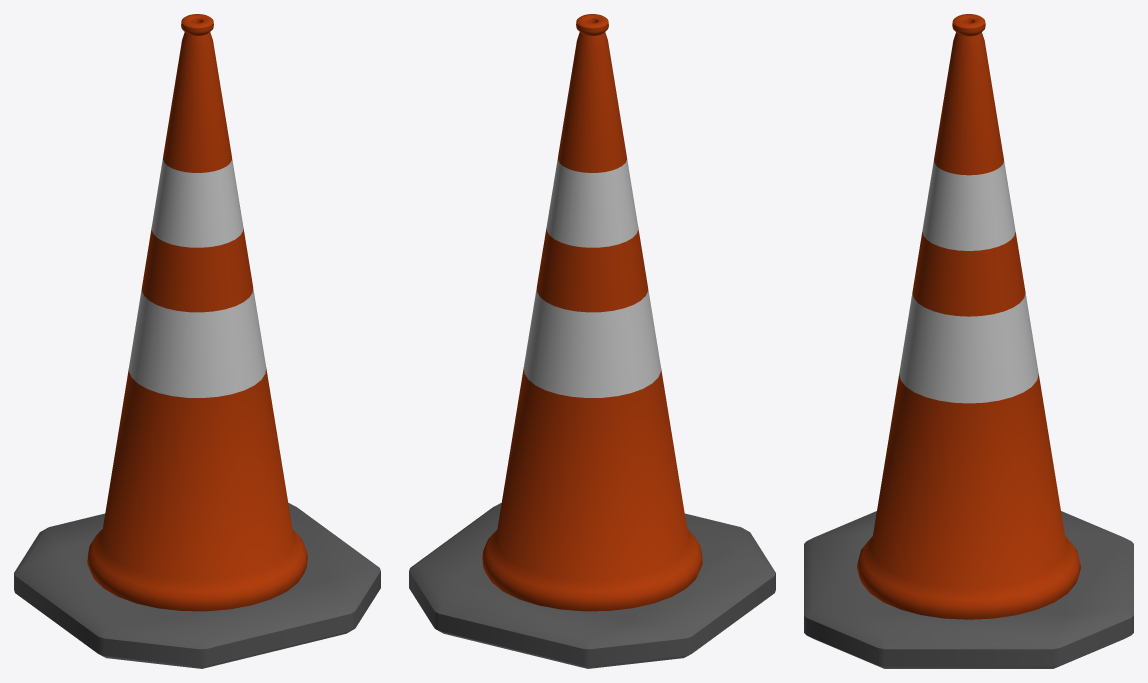
3 renders of one model, left to right at view 1: azimuth 30°, elevation 25°; view 2: azimuth 150°, elevation 25°; view 3: azimuth 270°, elevation 25°, orthographic.
Parts seen in each view (by area): view 1: Cone; view 2: Cone; view 3: Cone.
Boxes of the visible parts, bbox=[...] form: Cone: bbox=[14, 14, 380, 668]; Cone: bbox=[409, 14, 775, 668]; Cone: bbox=[804, 14, 1133, 668].
Bounding box in the file's own units: 188 × 366 × 188.
